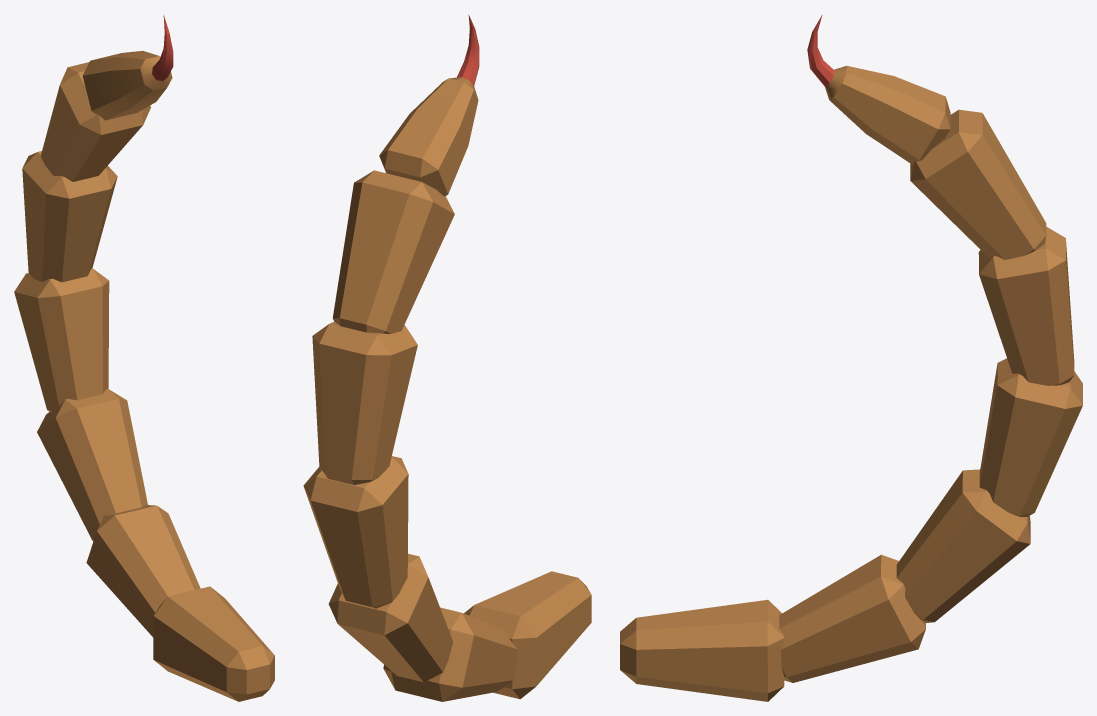
The model's file is ManticoreTail.fbx.
3 renders of one model, left to right at view 1: azimuth 30°, elevation 25°; view 2: azimuth 150°, elevation 25°; view 3: azimuth 270°, elevation 25°, orthographic. The views are drawn at different scales.
Parts seen in each view (by area): view 1: ManticoreTail; view 2: ManticoreTail; view 3: ManticoreTail.
Boxes of the visible parts, x1=… form: ManticoreTail: x1=14, y1=15, x2=274, y2=701; ManticoreTail: x1=303, y1=14, x2=591, y2=701; ManticoreTail: x1=620, y1=15, x2=1082, y2=701.
Bounding box in the file's own units: 43.02 × 363 × 225.
